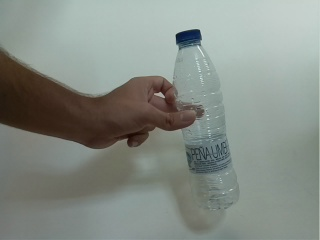botella plastico: (172, 28, 242, 212)
